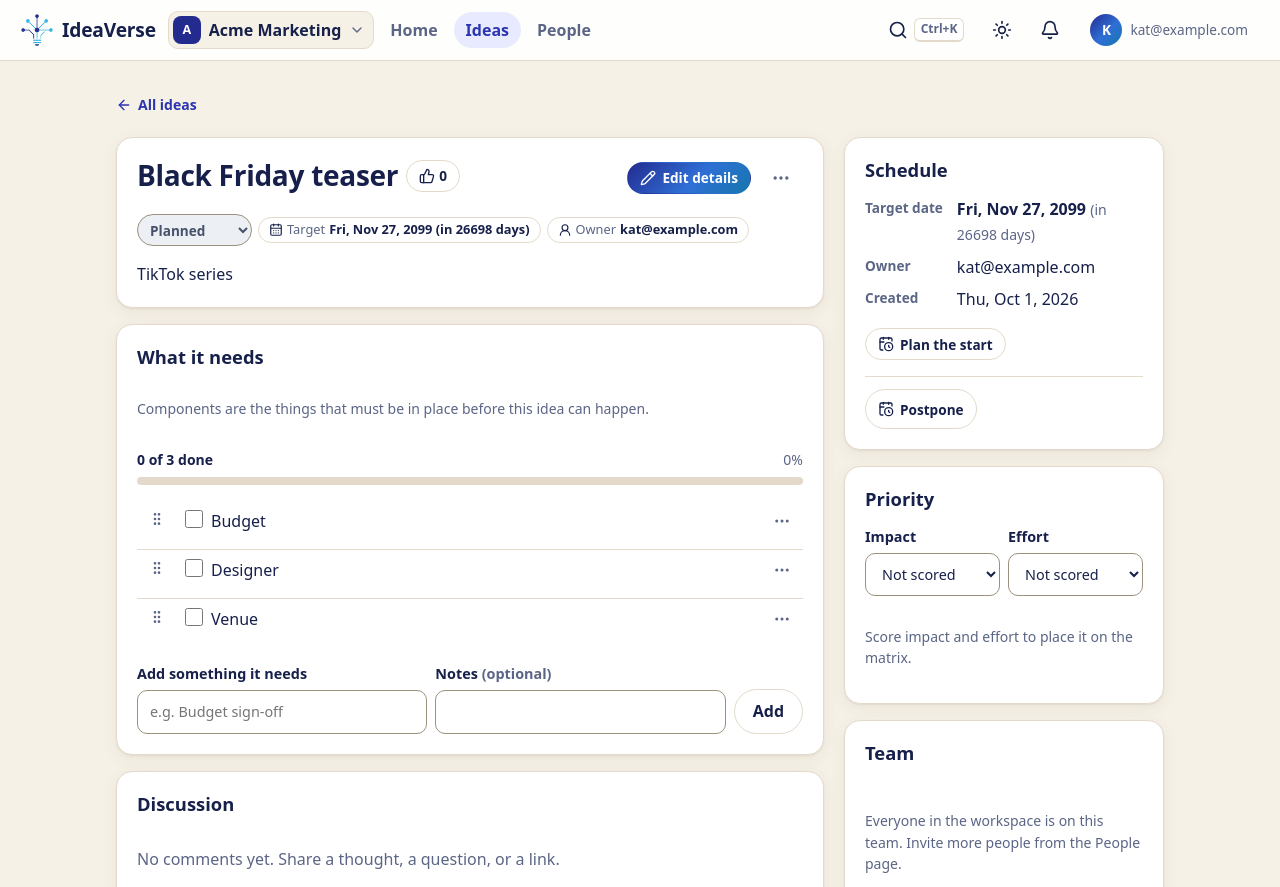
Test: Renaming a component in place › renames it from its title with Enter and keeps its other details
Click the button with aria-label "Rename Budget": (238, 522) [207,509,270,534]
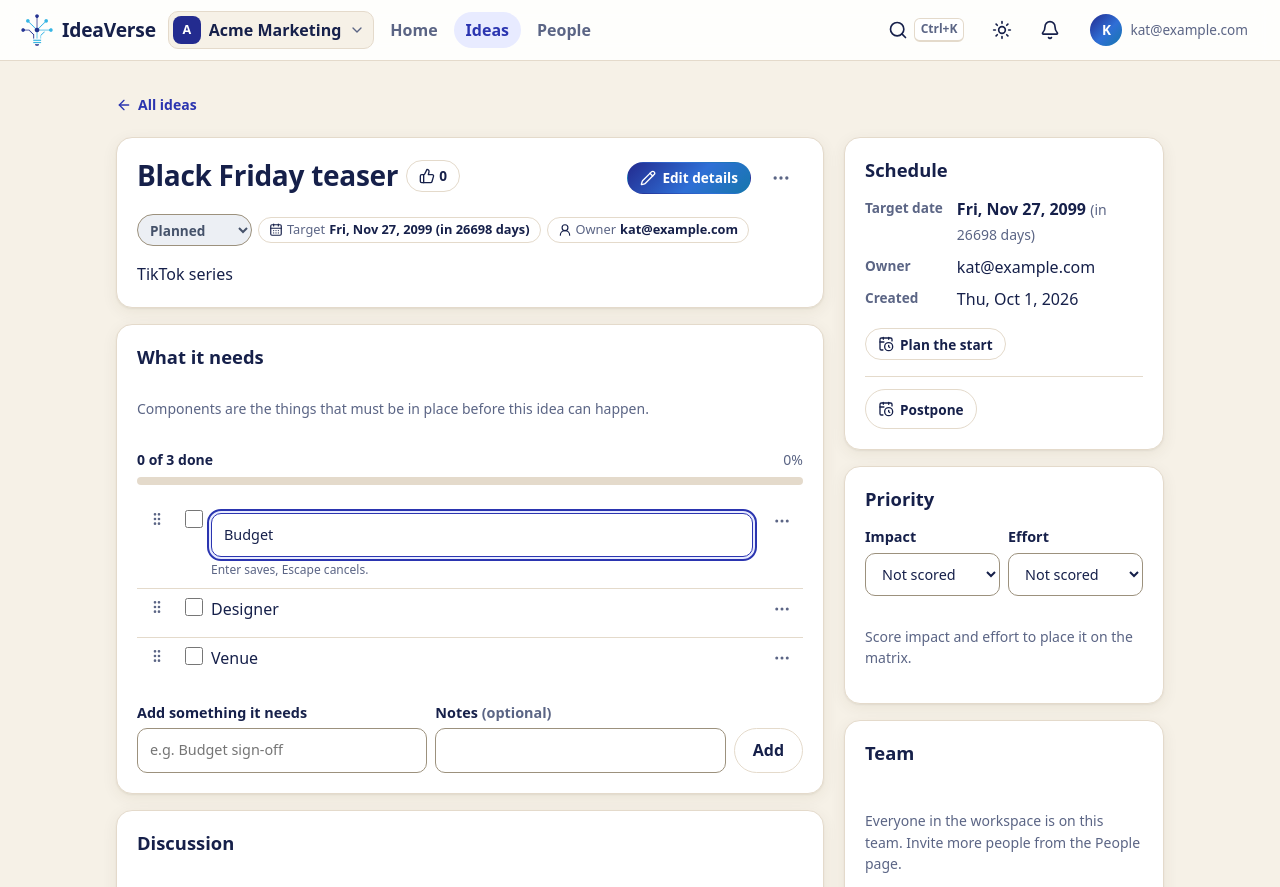
Replace the text in the field named "Title" with "Budget sign-off": (482, 535) [211,513,753,558]
Then press Enter
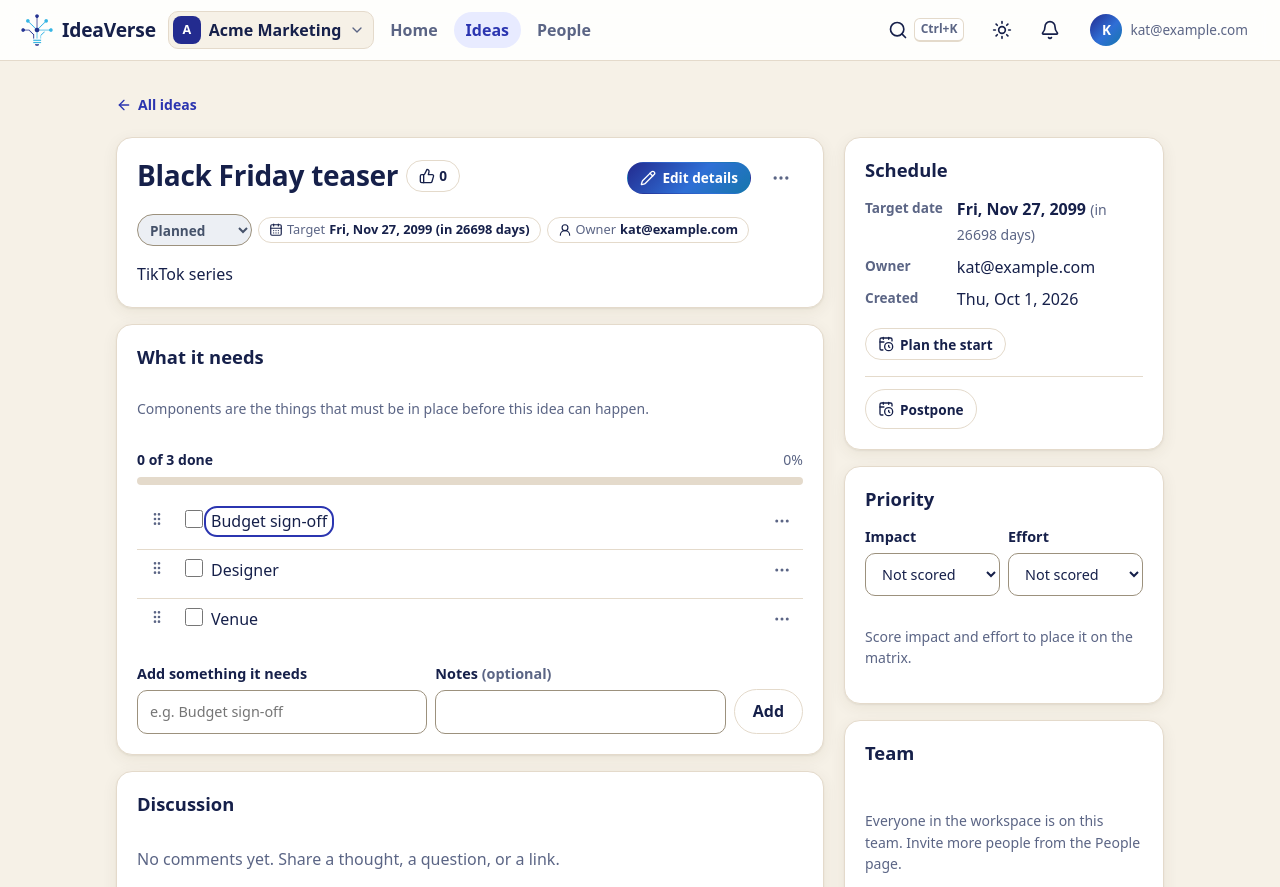
Expected: the button "Budget sign-off" is shown, [207,509,331,534]
